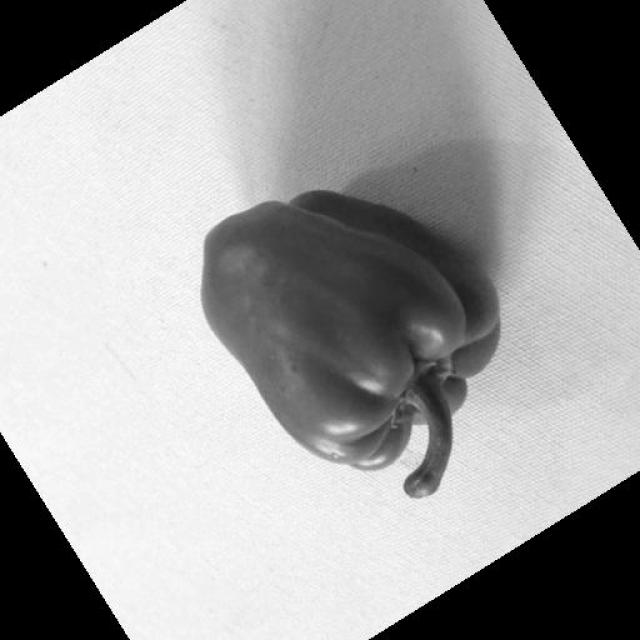Fresh_Capsicum: (169, 215, 503, 448)
